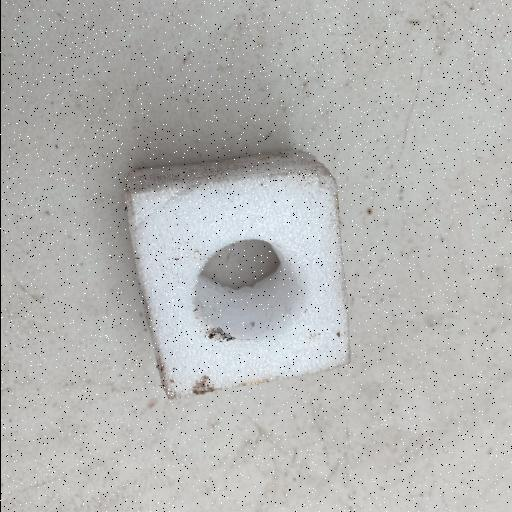Plastic: (121, 146, 353, 402)
